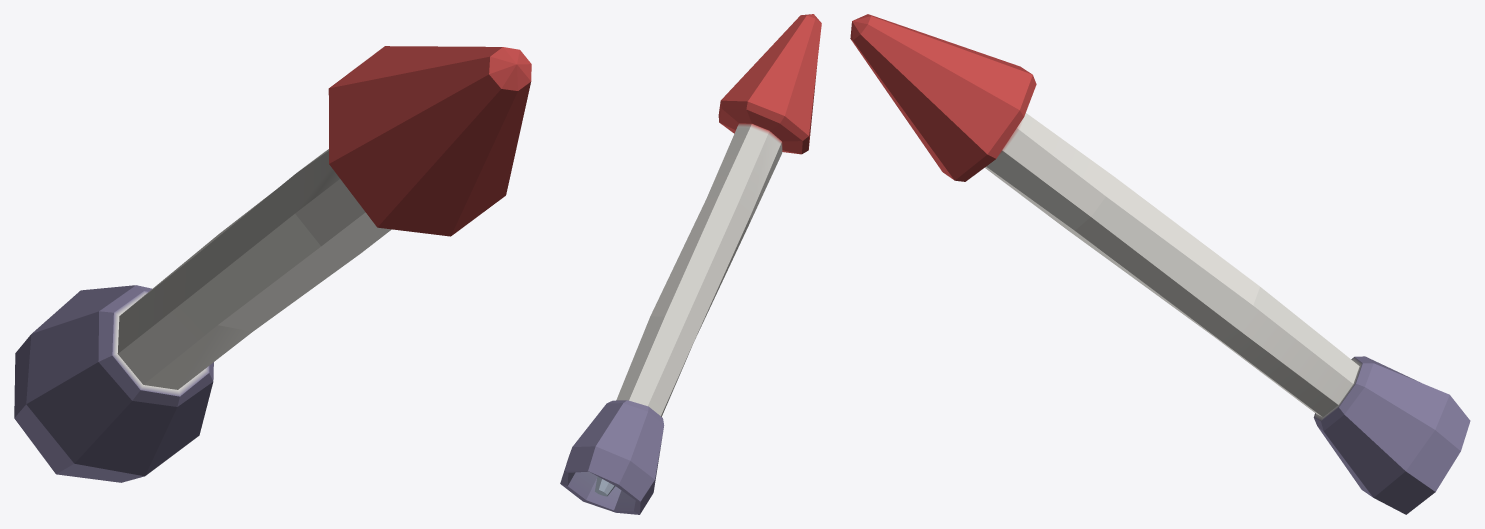
Rendered from item_jetpack.glb.
3 renders of one model, left to right at view 1: azimuth 30°, elevation 25°; view 2: azimuth 150°, elevation 25°; view 3: azimuth 270°, elevation 25°, orthographic. The views are drawn at different scales.
Visible parts, largest first — view 1: JetpackHandy; view 2: JetpackHandy; view 3: JetpackHandy.
Part boxes in pixels (left/top/right/bottom): JetpackHandy: left=14, top=46, right=531, bottom=482; JetpackHandy: left=560, top=14, right=821, bottom=514; JetpackHandy: left=850, top=14, right=1470, bottom=514.
Bounding box in the file's own units: 0.1019 × 0.3863 × 0.443.
